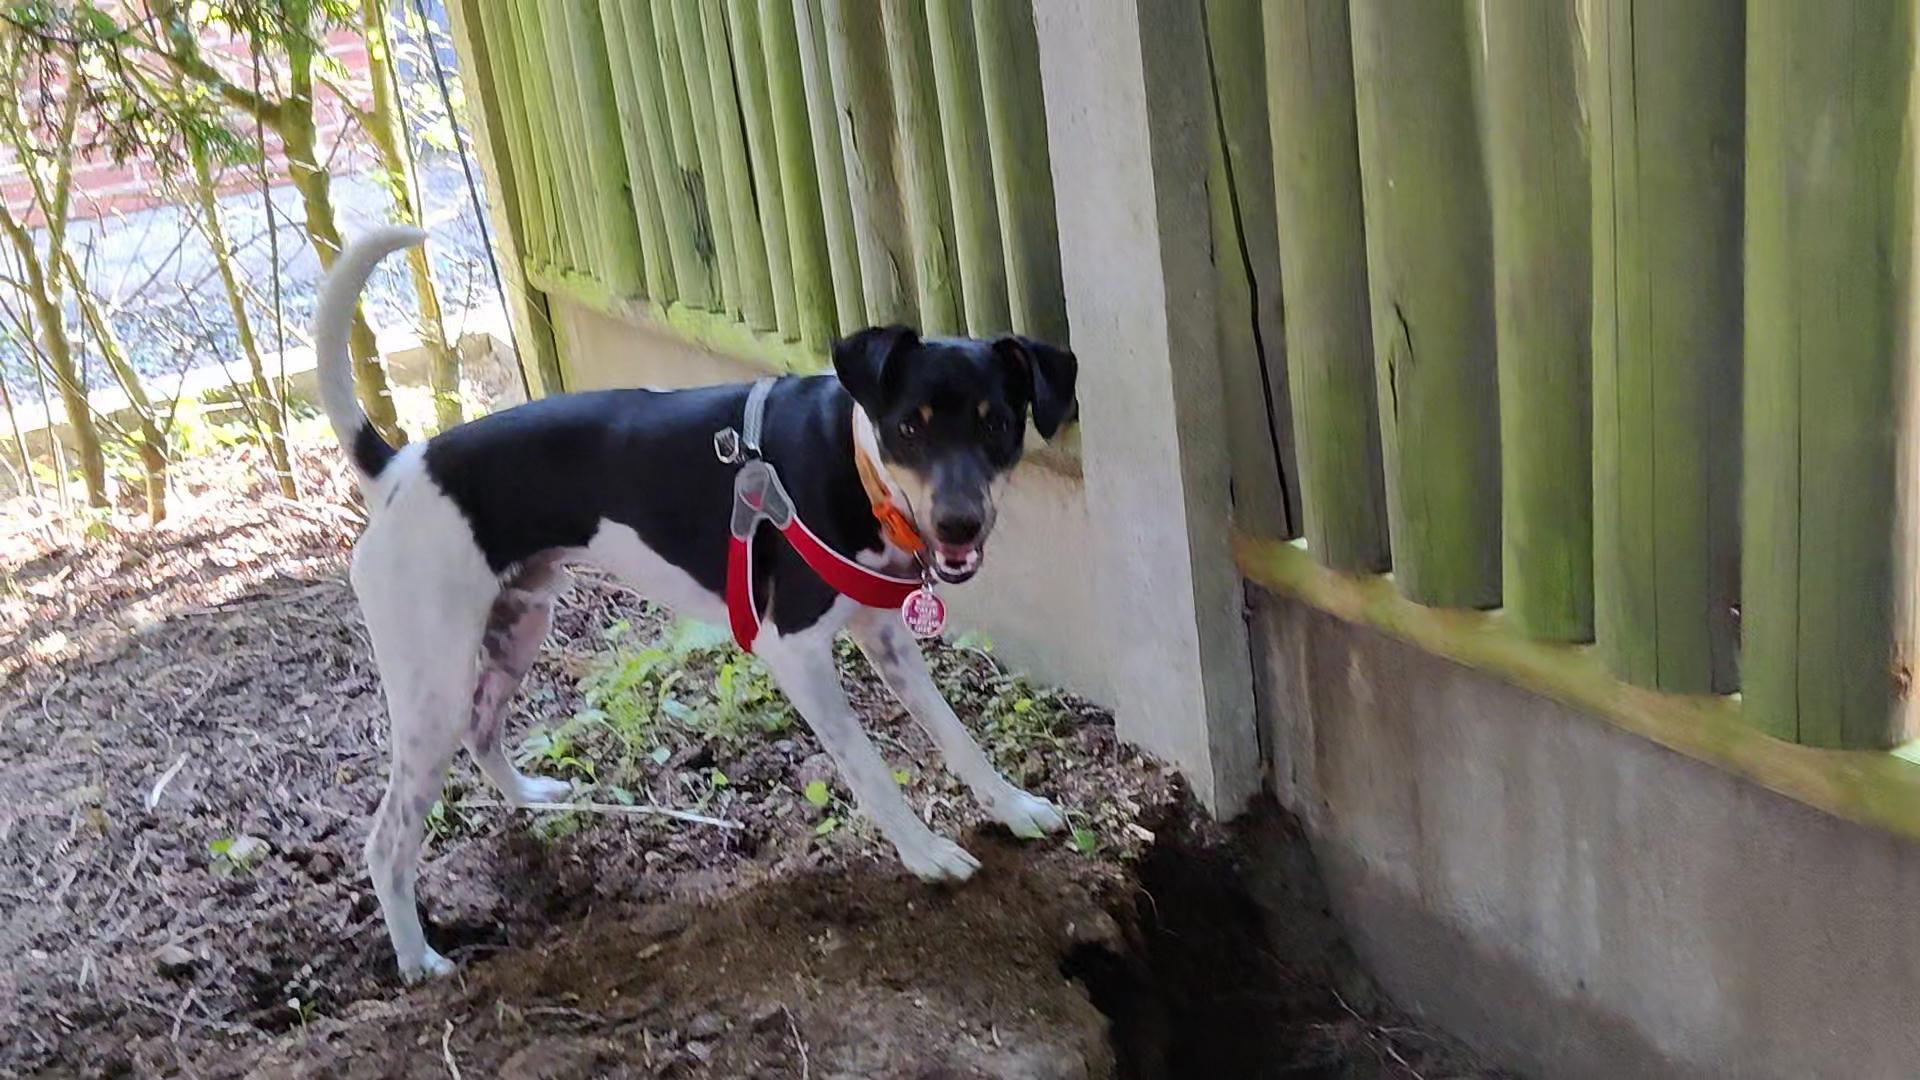Dog: (281, 196, 1095, 1002)
